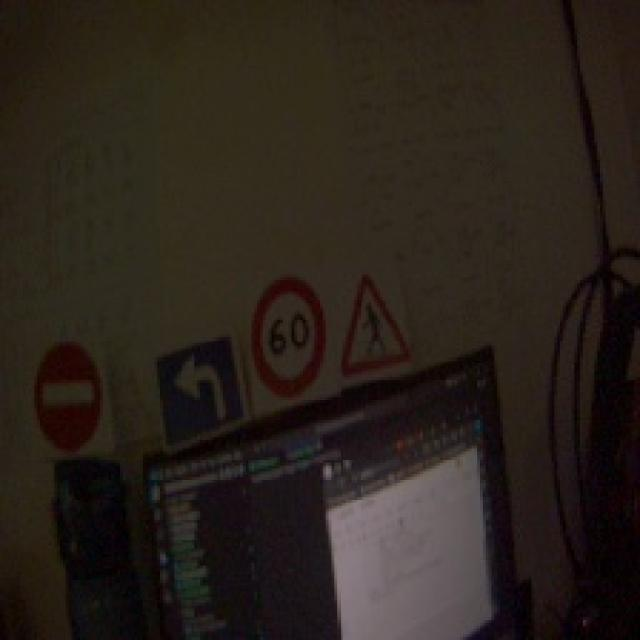DoNotEnterSign: (30, 338, 112, 451)
